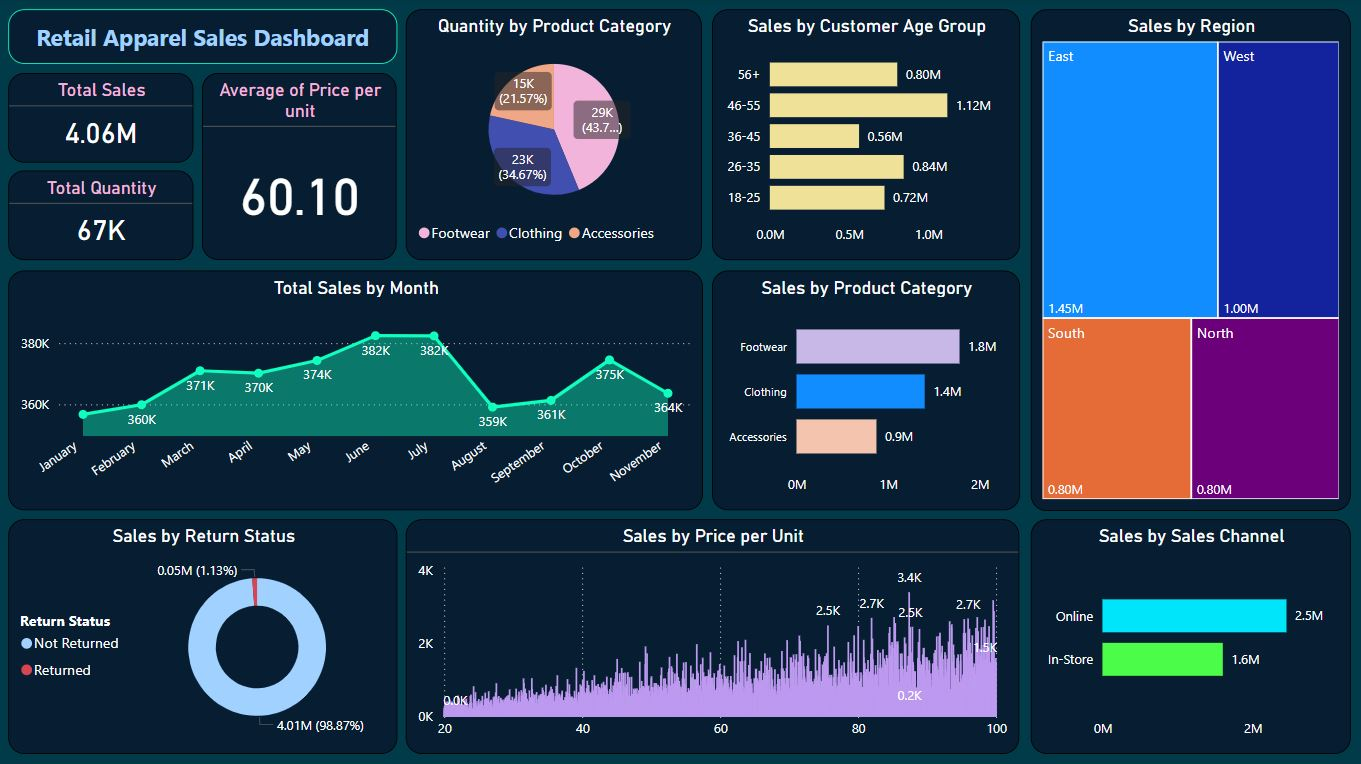

The page's visual inventory and layout, read from the dashboard file:
{"tool":"powerbi","page":{"name":"Page 1","canvas":[1280,720],"ordinal":0},"visuals":[{"type":"clusteredBarChart","title":"Sales by Product Category","fields":{"Category":["Updated_Retail_Apparel_Data_13 09 24_v1.Product_Category"],"Y":["Sum(Updated_Retail_Apparel_Data_13 09 24_v1.Total_Sales)"]},"box":[670,255,288.8,225],"z":0},{"type":"clusteredBarChart","title":"Sales by Customer Age Group","fields":{"Category":["Updated_Retail_Apparel_Data_13 09 24_v1.Customer_Age_Group"],"Y":["Sum(Updated_Retail_Apparel_Data_13 09 24_v1.Total_Sales)"]},"box":[670,10,288.8,235],"z":1},{"type":"clusteredBarChart","title":"Sales by Sales Channel","fields":{"Category":["Updated_Retail_Apparel_Data_13 09 24_v1.Sales_Channel"],"Y":["Sum(Updated_Retail_Apparel_Data_13 09 24_v1.Total_Sales)"]},"box":[968.8,488.8,300,220],"z":2},{"type":"treemap","title":"Sales by Region","fields":{"Group":["Updated_Retail_Apparel_Data_13 09 24_v1.Region"],"Values":["Sum(Updated_Retail_Apparel_Data_13 09 24_v1.Total_Sales)"]},"box":[968.8,10,300,470],"z":3},{"type":"donutChart","title":"Sales by Return Status","fields":{"Category":["Updated_Retail_Apparel_Data_13 09 24_v1.Return_Status"],"Y":["Sum(Updated_Retail_Apparel_Data_13 09 24_v1.Total_Sales)"]},"box":[10,488.8,365,220],"z":4},{"type":"columnChart","title":"Sales by Price per Unit","fields":{"Category":["Updated_Retail_Apparel_Data_13 09 24_v1.Price_per_Unit"],"Y":["Sum(Updated_Retail_Apparel_Data_13 09 24_v1.Total_Sales)"]},"box":[383.8,488.8,575,220],"z":5},{"type":"stackedAreaChart","title":"Total Sales by Month","fields":{"Y":["Sum(Updated_Retail_Apparel_Data_13 09 24_v1.Total_Sales)"],"Category":["Updated_Retail_Apparel_Data_13 09 24_v1.Date.Variation.Date Hierarchy.Month"]},"box":[10,255,651.2,225],"z":6},{"type":"textbox","box":[10,10,365,51.2],"z":7},{"type":"pieChart","title":"Quantity by Product Category","fields":{"Y":["Sum(Updated_Retail_Apparel_Data_13 09 24_v1.Quantity)"],"Category":["Updated_Retail_Apparel_Data_13 09 24_v1.Product_Category"]},"box":[383.8,10,277.5,235],"z":8},{"type":"card","title":"Total Sales","fields":{"Values":["Sum(Updated_Retail_Apparel_Data_13 09 24_v1.Total_Sales)"]},"box":[10,70,173.8,83.8],"z":9},{"type":"card","title":"Average of Price per unit","fields":{"Values":["Avg(Updated_Retail_Apparel_Data_13 09 24_v1.Price_per_Unit)"]},"box":[192.5,70,182.5,175],"z":10},{"type":"card","title":"Total Quantity","fields":{"Values":["Sum(Updated_Retail_Apparel_Data_13 09 24_v1.Quantity)"]},"box":[10,161.2,173.8,83.8],"z":11}]}

Visuals, with their boxes in screenshot pixels (x1, y1, x2, y2), scaled from the page's 1280x720 canvas onto the 1361x764 screenshot:
"Sales by Product Category" clusteredBarChart: [x1=712, y1=271, x2=1019, y2=509]
"Sales by Customer Age Group" clusteredBarChart: [x1=712, y1=11, x2=1019, y2=260]
"Sales by Sales Channel" clusteredBarChart: [x1=1030, y1=519, x2=1349, y2=752]
"Sales by Region" treemap: [x1=1030, y1=11, x2=1349, y2=509]
"Sales by Return Status" donutChart: [x1=11, y1=519, x2=399, y2=752]
"Sales by Price per Unit" columnChart: [x1=408, y1=519, x2=1019, y2=752]
"Total Sales by Month" stackedAreaChart: [x1=11, y1=271, x2=703, y2=509]
textbox: [x1=11, y1=11, x2=399, y2=65]
"Quantity by Product Category" pieChart: [x1=408, y1=11, x2=703, y2=260]
"Total Sales" card: [x1=11, y1=74, x2=195, y2=163]
"Average of Price per unit" card: [x1=205, y1=74, x2=399, y2=260]
"Total Quantity" card: [x1=11, y1=171, x2=195, y2=260]
